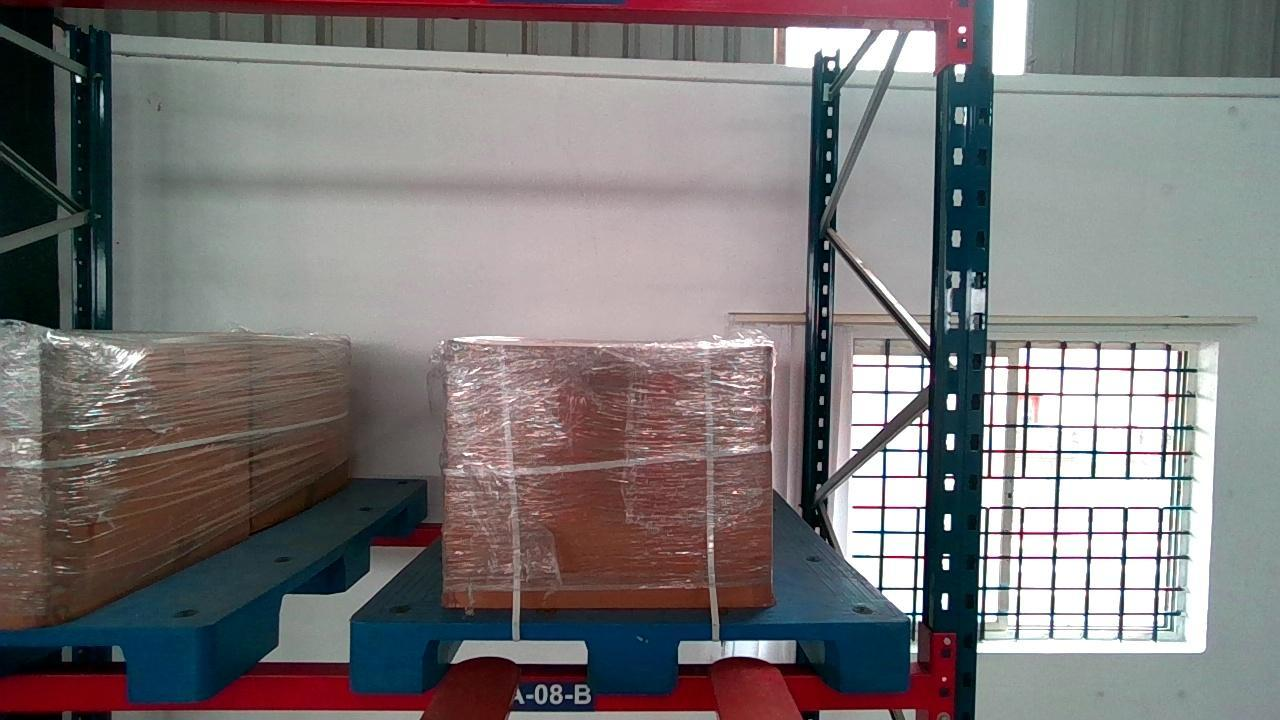h_rack: (0, 669, 926, 711)
small_pallet: (350, 617, 910, 693)
